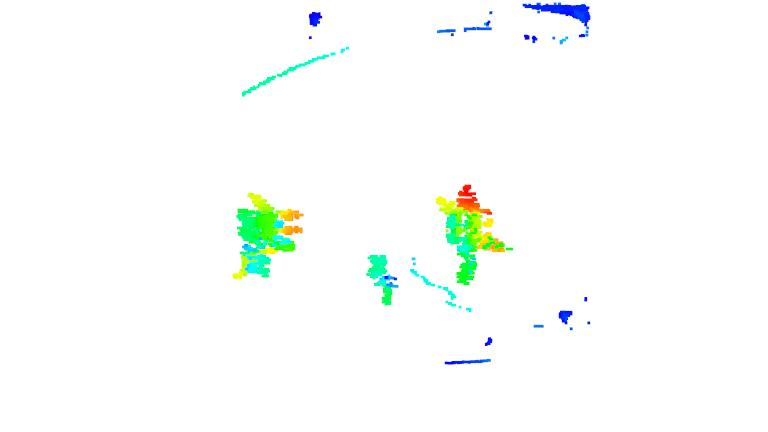chickpea: (434, 183, 514, 288), (231, 191, 307, 284), (366, 250, 399, 307)
